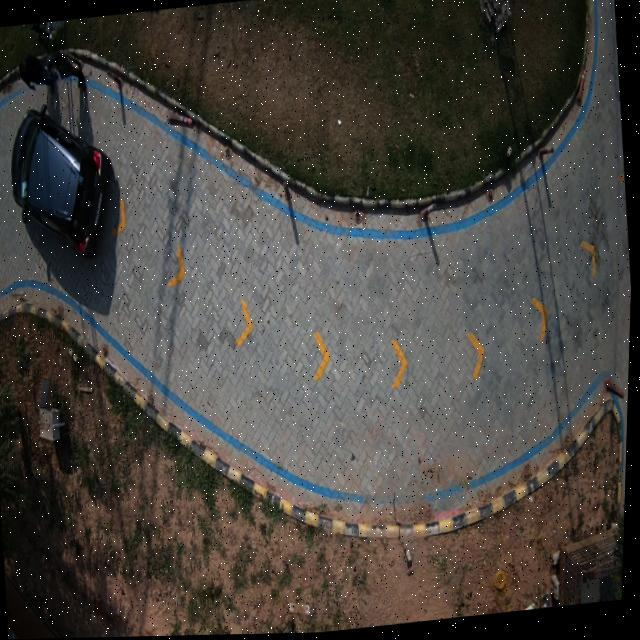car: (11, 104, 115, 258)
